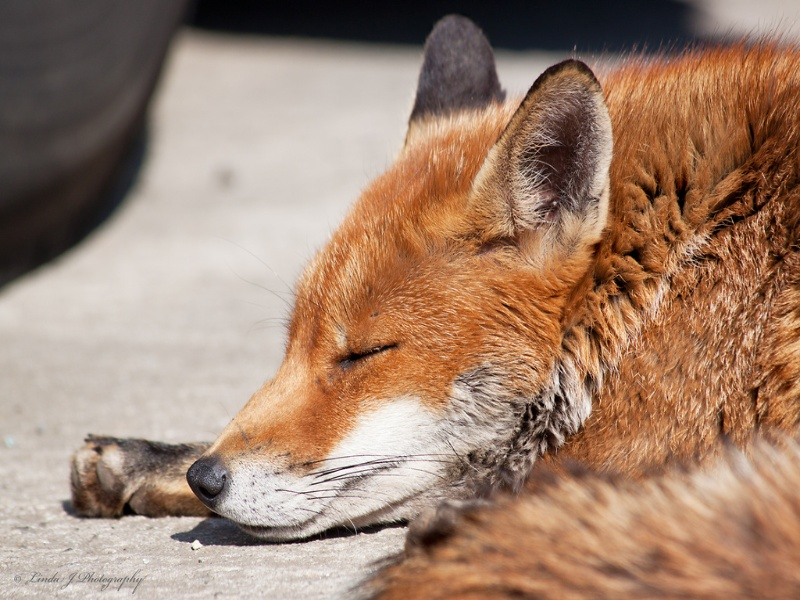fox: (61, 16, 796, 548)
